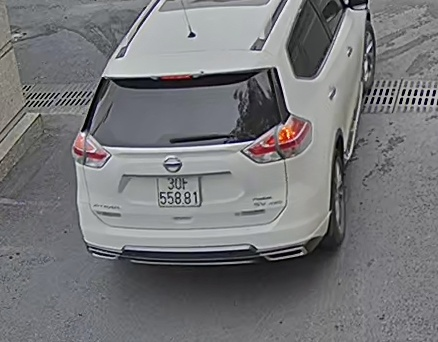vehicle plate: (152, 172, 202, 208)
